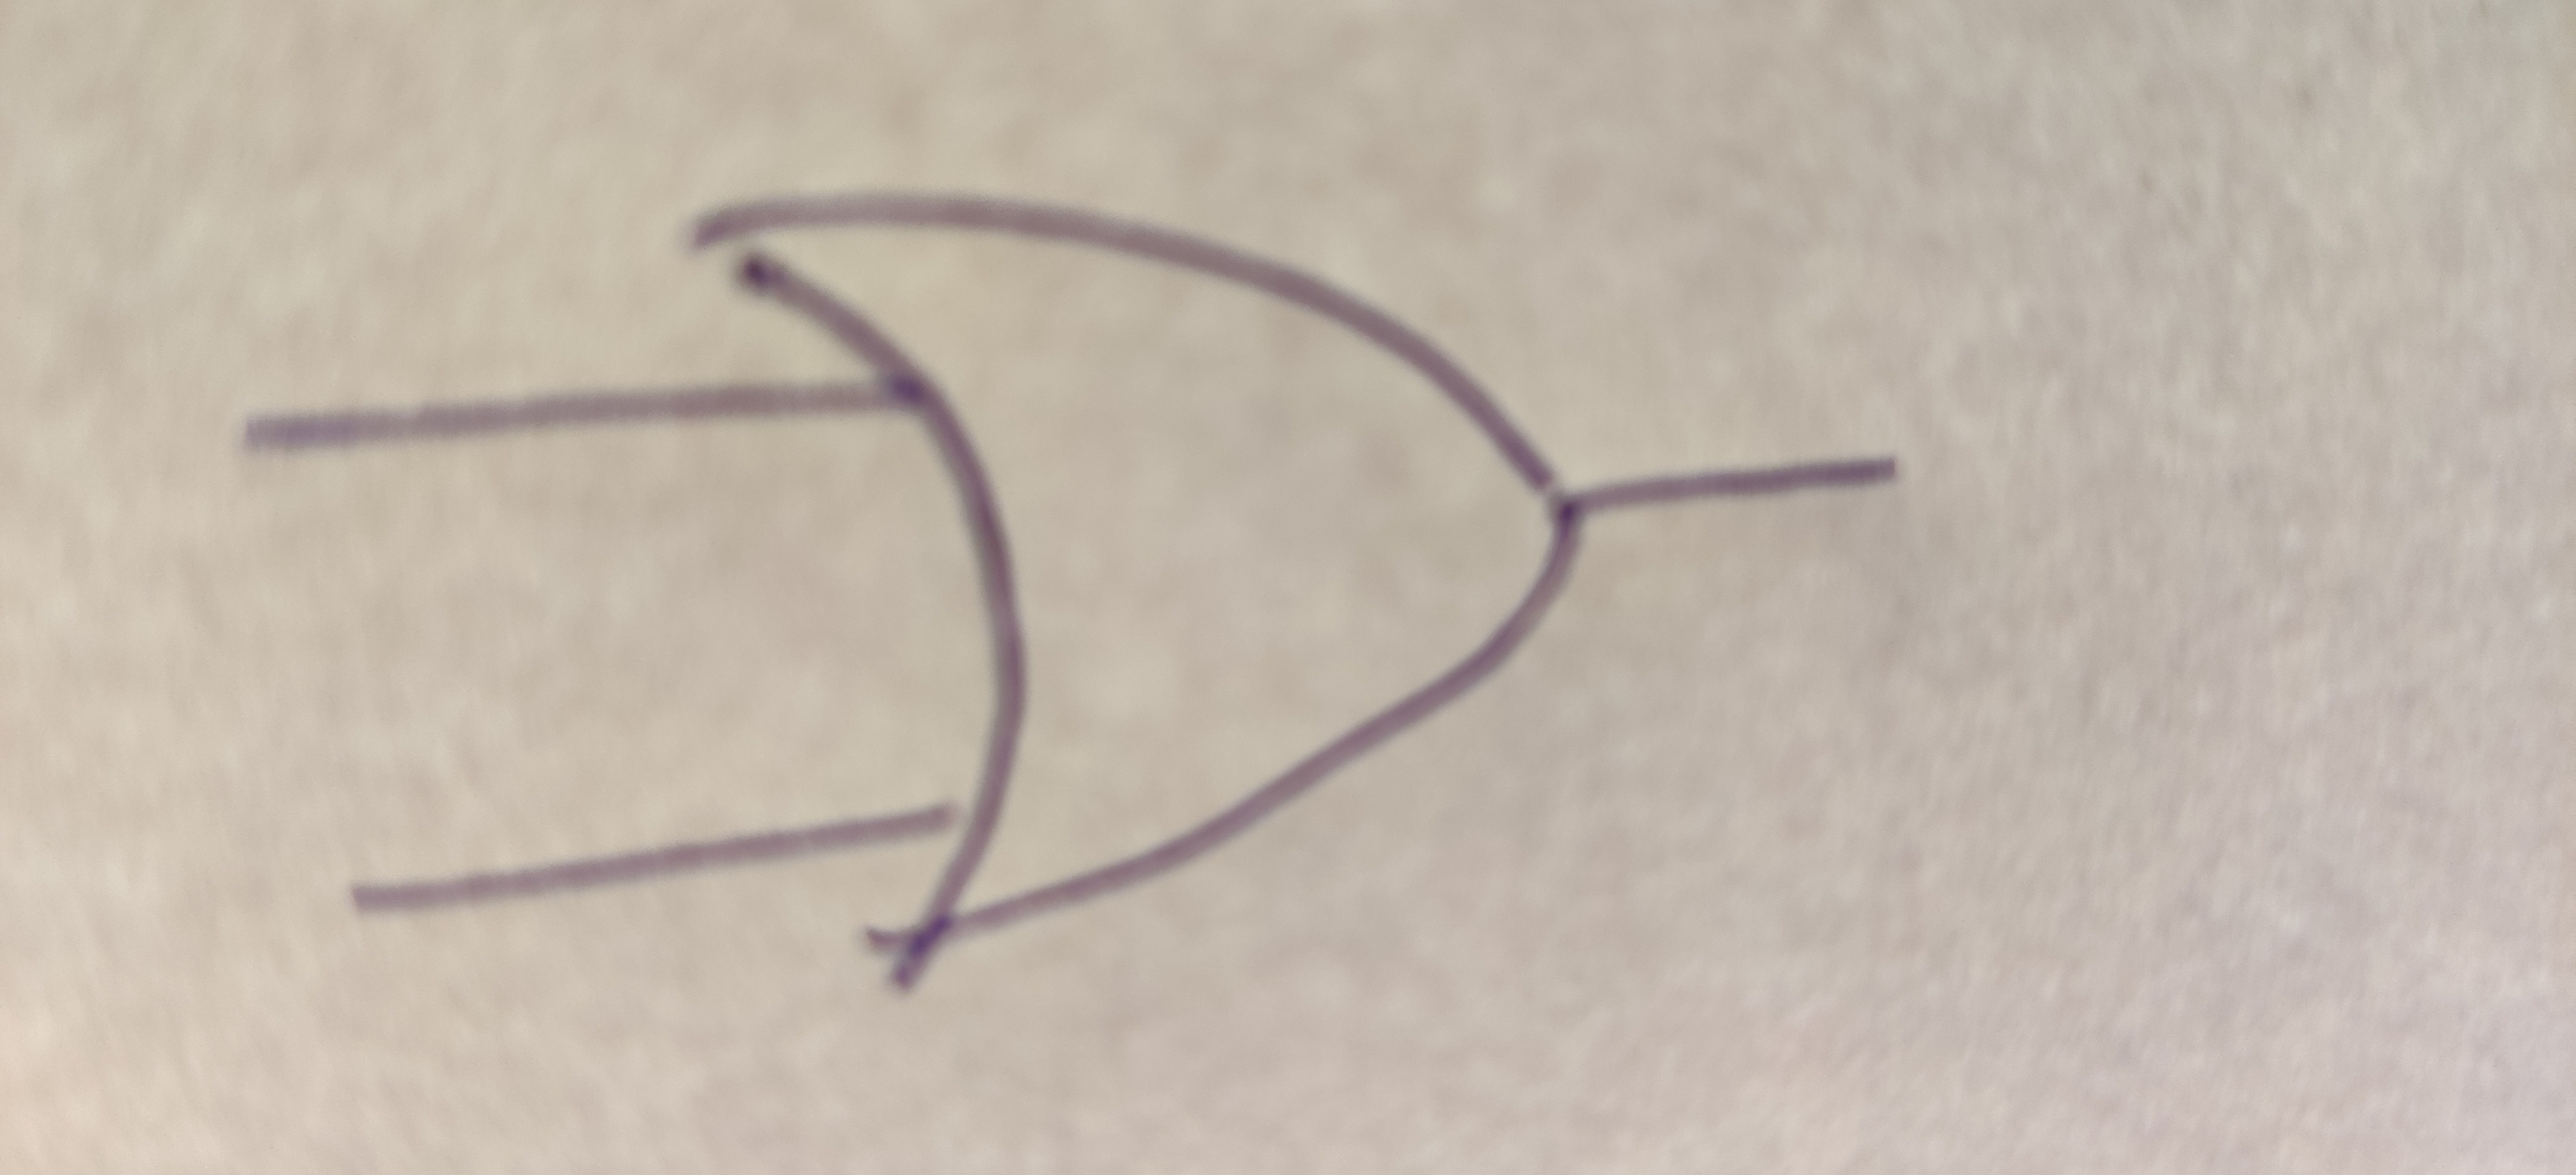or: (710, 192, 1582, 947)
